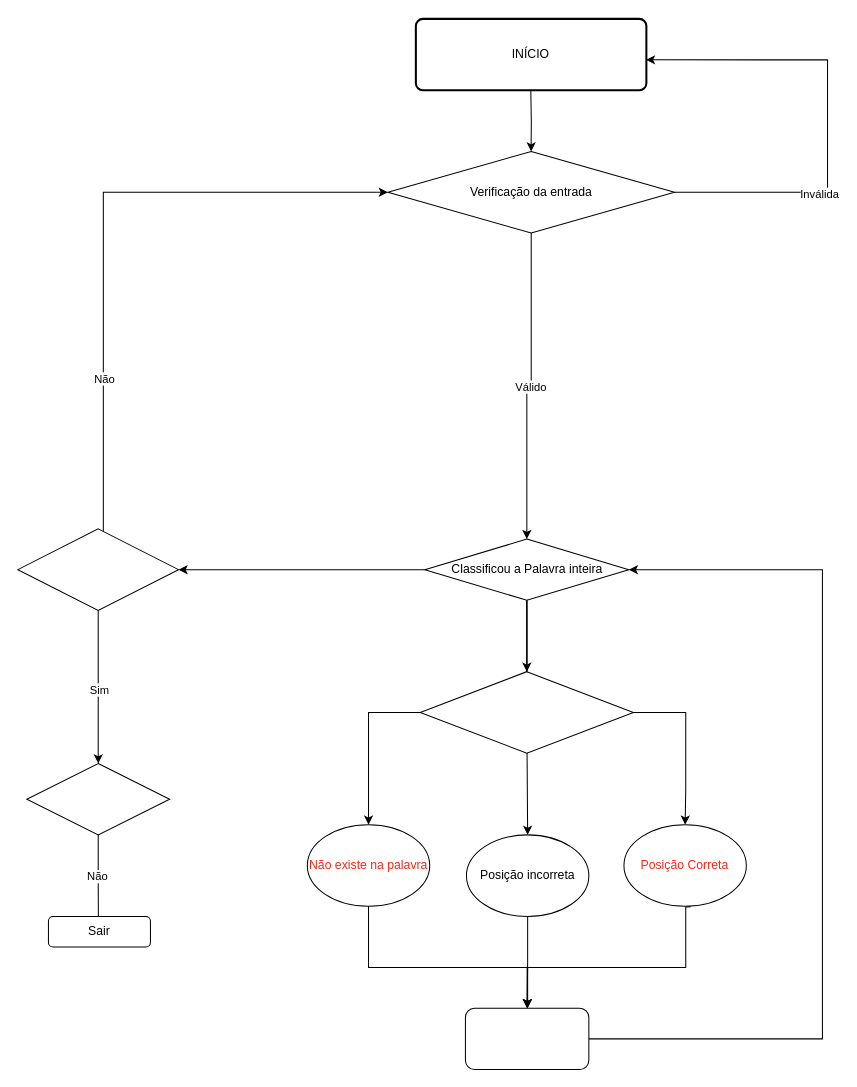
Image size: 857x1087. Some labels were removed from this diagram. The centre of each missing label's shape, as x and y in pixels:
"Apresentar Letra" belongs at (x=526, y=1038).
"Deseja Continuar" belongs at (x=98, y=798).
"Jogador acertou" belongs at (x=97, y=569).
"Qual a classificação da letra" belongs at (x=526, y=712).
